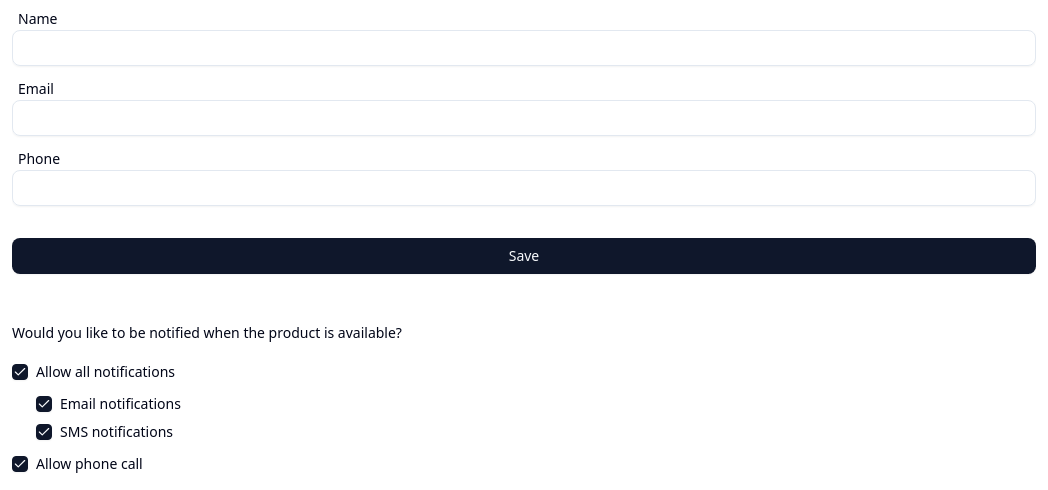
Test case: WaitListForm component tests › Permissions checkboxes tests › should check all notifications parent is checked
Click the checkbox named "All notifications" next to "Allow all notifications".
click(20, 372)  # box [12,364,28,380]
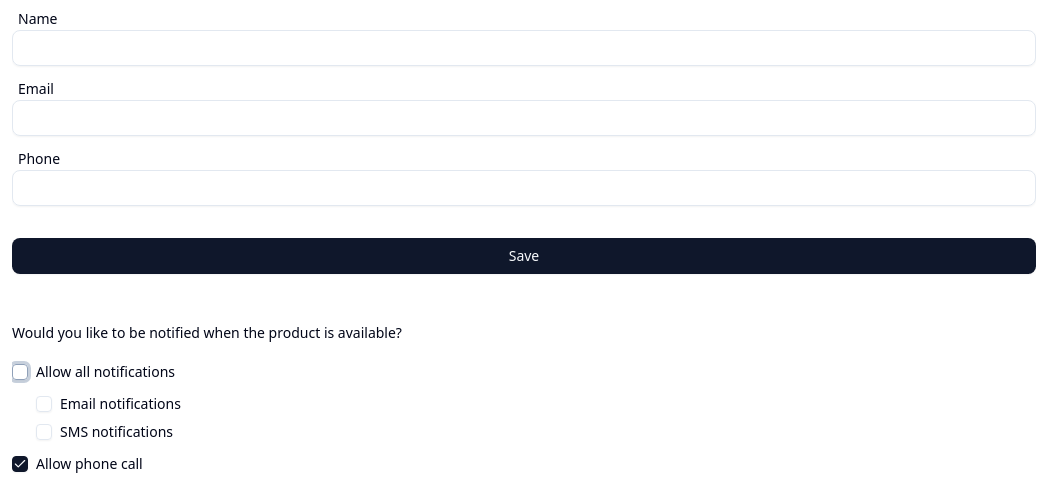
Click the checkbox named "All notifications" next to "Allow all notifications".
click(20, 372)  # box [12,364,28,380]
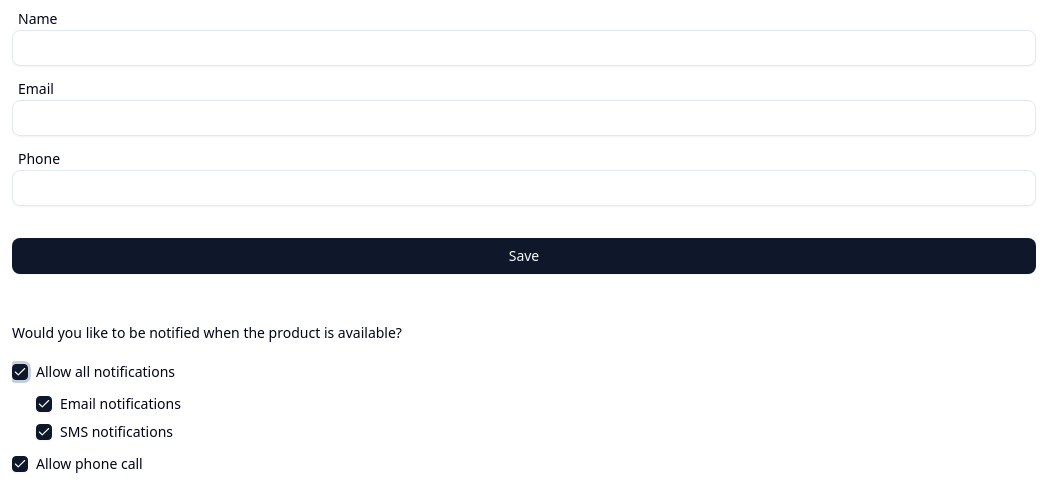
Expected: the checkbox named "All notifications" next to "Allow all notifications" is checked, [12,364,28,380]
Expected: the checkbox named "email notifications" next to "Email notifications" is checked, [36,396,52,412]
Expected: the checkbox named "sms notifications" next to "SMS notifications" is checked, [36,424,52,440]
